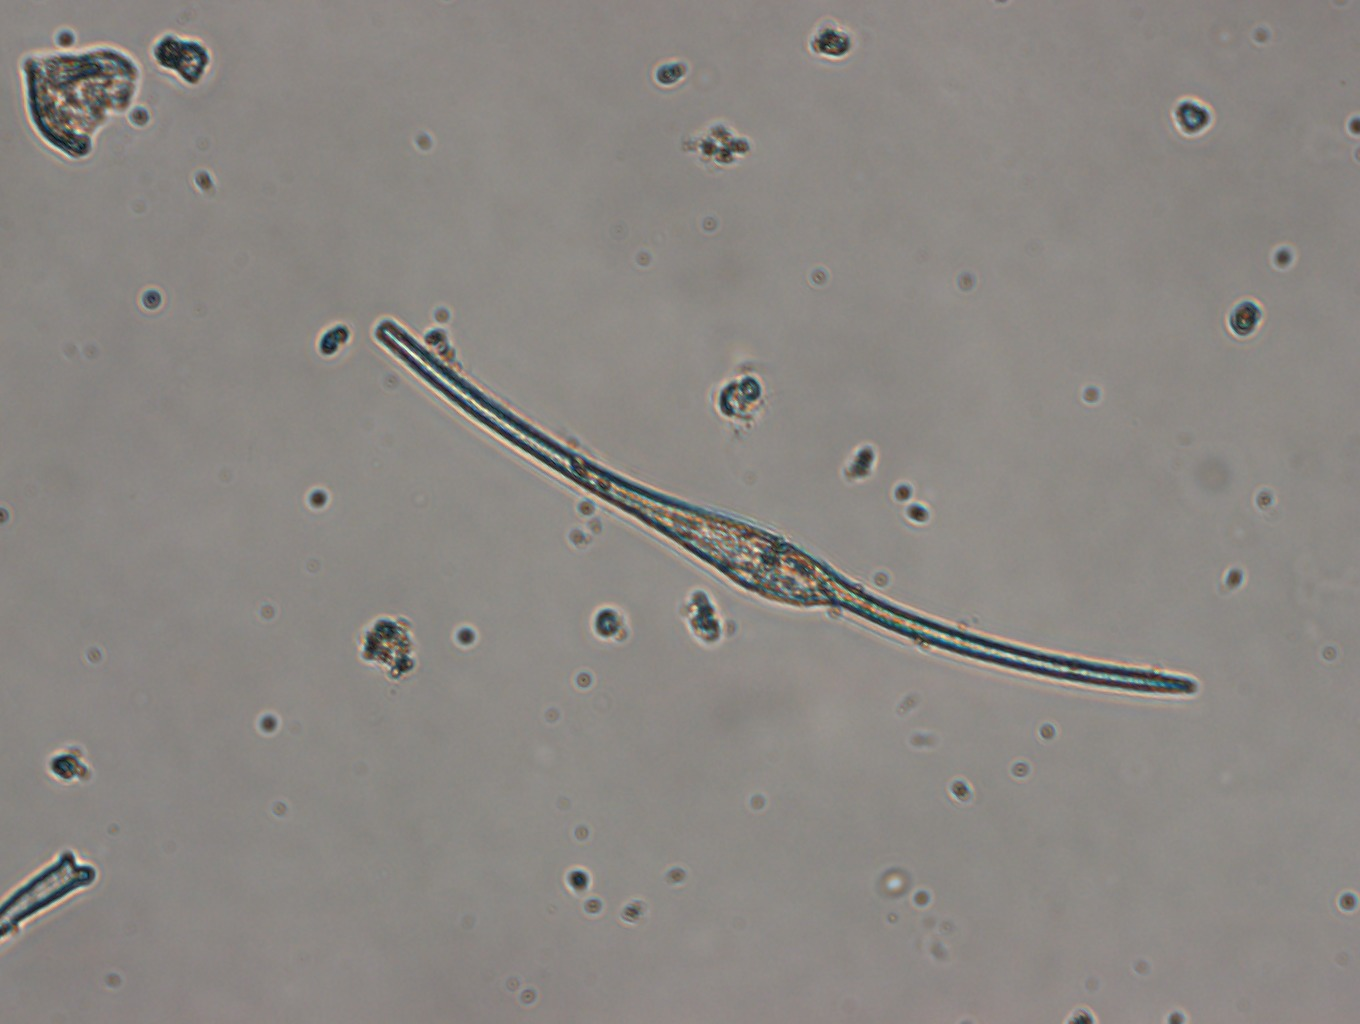ceratium fusus: (373, 308, 1202, 703)
